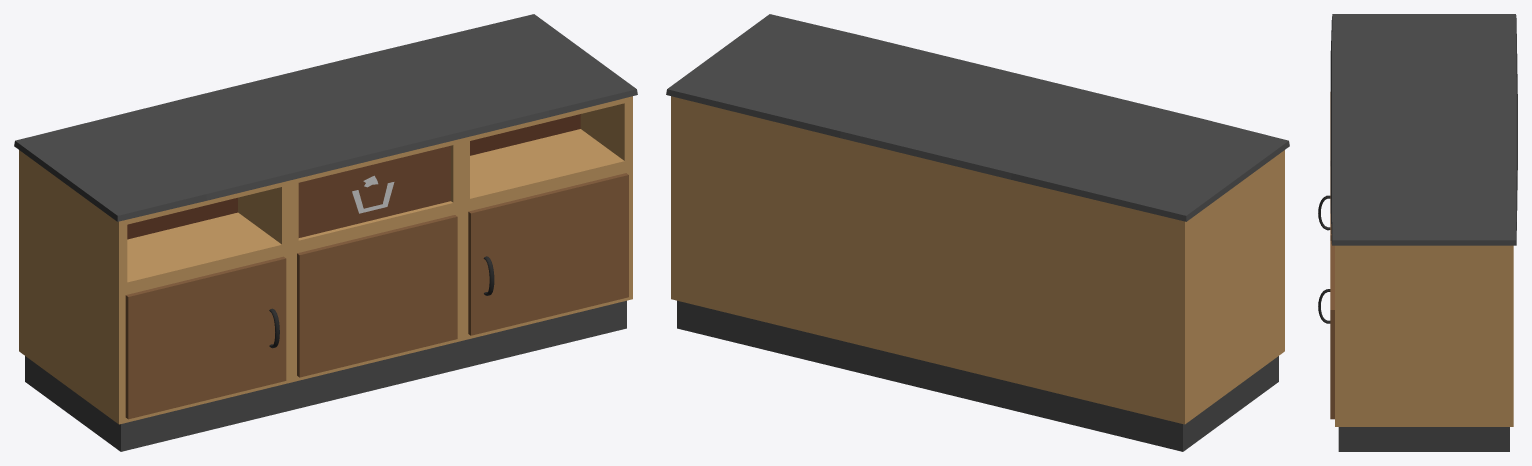
File: Small Counter w_Garbages Light Brown.fbx
3 renders of one model, left to right at view 1: azimuth 30°, elevation 25°; view 2: azimuth 150°, elevation 25°; view 3: azimuth 270°, elevation 25°, orthographic. The views are drawn at different scales.
Parts seen in each view (by area): view 1: Small Counter w_Garbages Light Brown; view 2: Small Counter w_Garbages Light Brown; view 3: Small Counter w_Garbages Light Brown.
Boxes of the visible parts, <box> form: Small Counter w_Garbages Light Brown: <box>14,14,637,451</box>; Small Counter w_Garbages Light Brown: <box>666,14,1289,451</box>; Small Counter w_Garbages Light Brown: <box>1318,14,1517,451</box>.
Bounding box in the file's own units: 219 × 96.95 × 81.63.
1 material, 1 textured.
